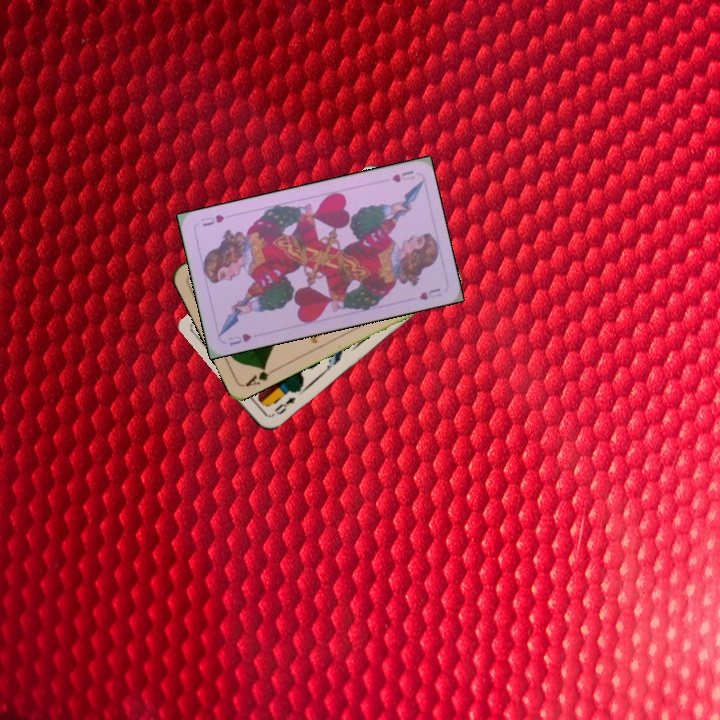EO: (270, 393, 299, 417)
GA: (241, 362, 279, 390)
HU: (224, 329, 254, 348), (388, 166, 417, 185)
